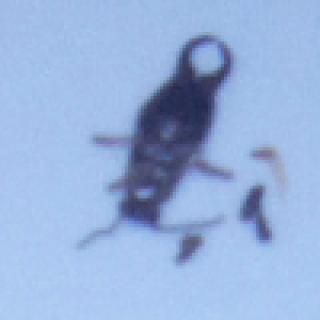earwig: (77, 31, 235, 250)
